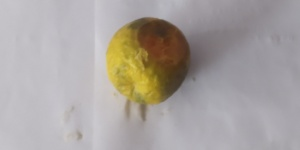BAD: (105, 15, 190, 103)
